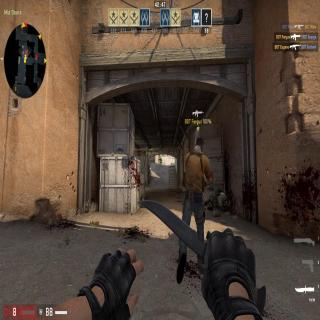CT-Body: (160, 157, 163, 165)
CT-Head: (160, 157, 162, 159)
